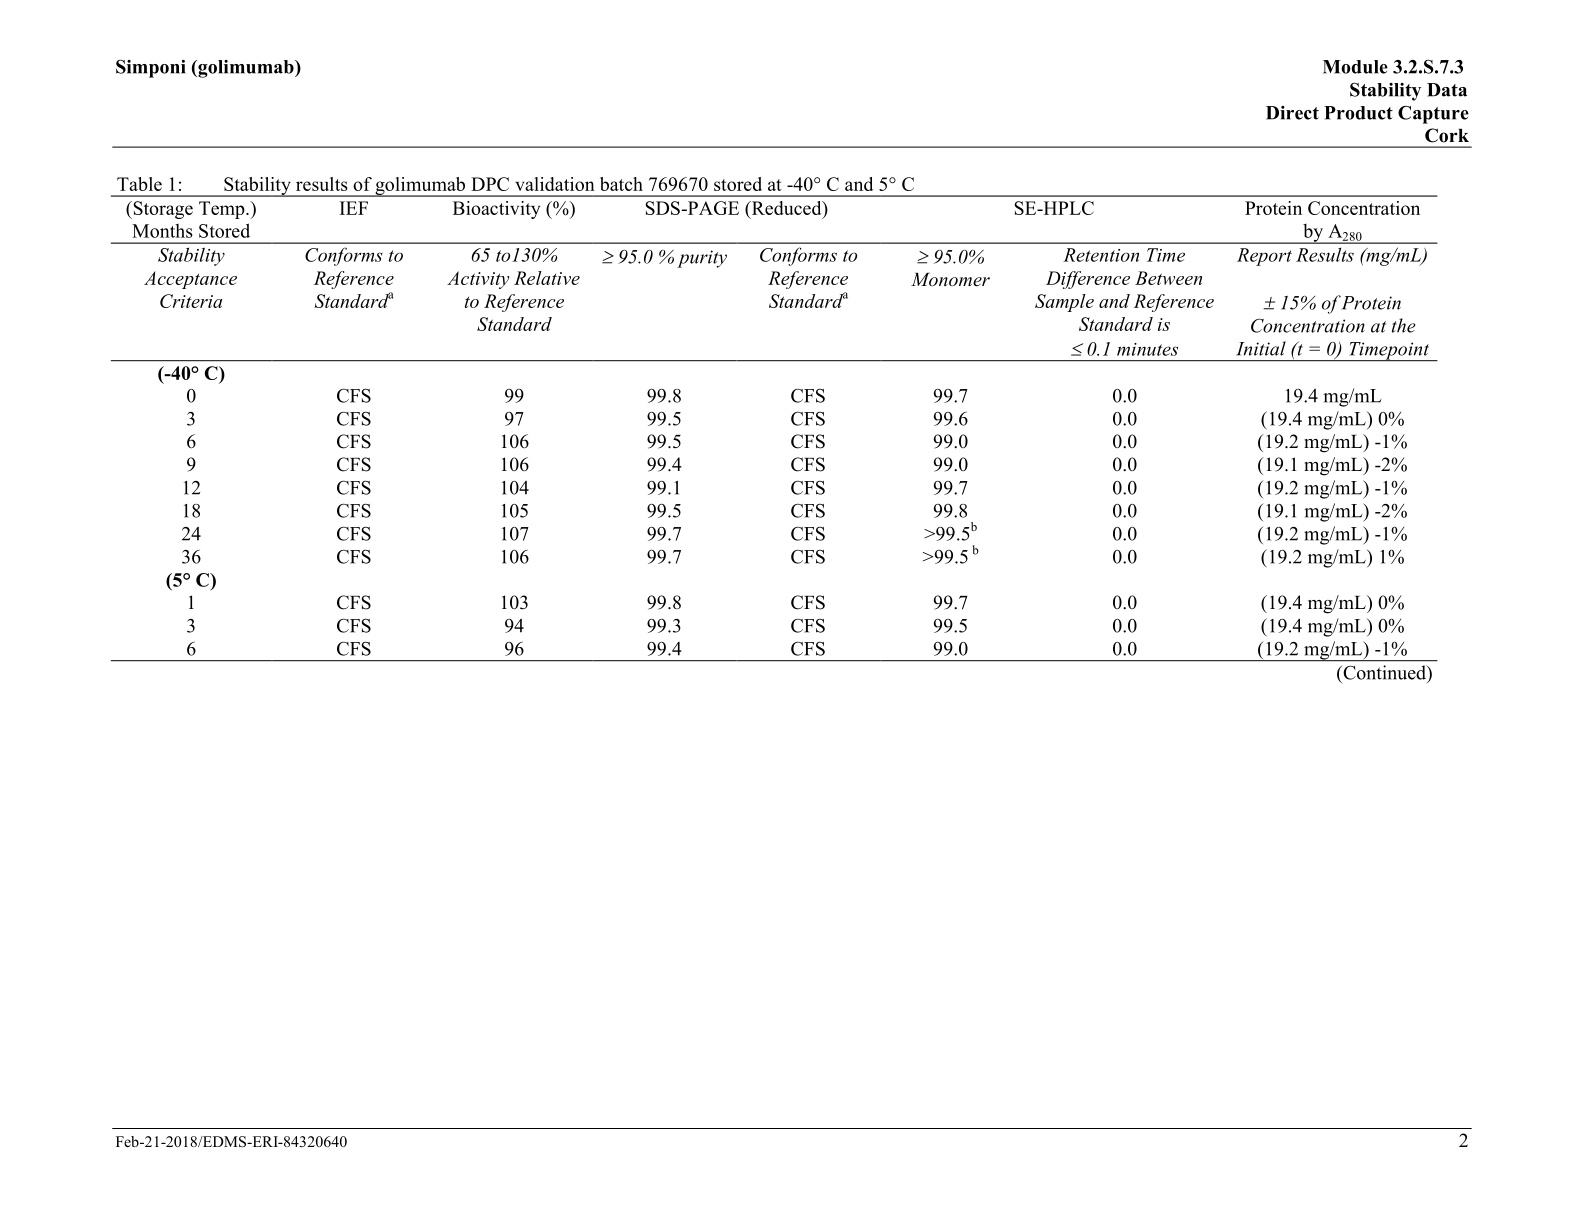partial_lined: (109, 194, 1437, 661)
